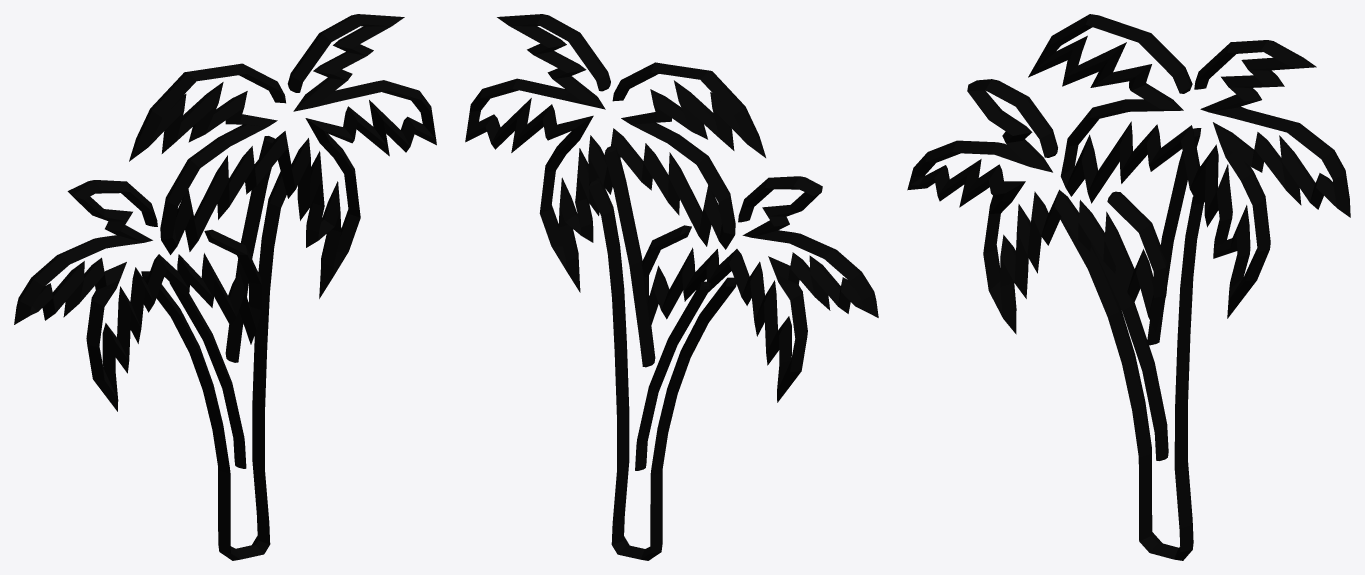
Rendered from SM_Prop_Casino_Neon_06.fbx.
The picture shows the model from 3 angles, left to right: view 1: azimuth 30°, elevation 25°; view 2: azimuth 150°, elevation 25°; view 3: azimuth 330°, elevation 25°; orthographic projection. The views are drawn at different scales.
Visible parts, largest first — view 1: SM_Prop_Casino_Neon_06; view 2: SM_Prop_Casino_Neon_06; view 3: SM_Prop_Casino_Neon_06.
Part boxes in pixels (<box>): SM_Prop_Casino_Neon_06: <box>14,14,436,560</box>; SM_Prop_Casino_Neon_06: <box>465,14,878,560</box>; SM_Prop_Casino_Neon_06: <box>907,14,1350,560</box>.
Size of the model in its own units: 121 by 143 by 10.51.
